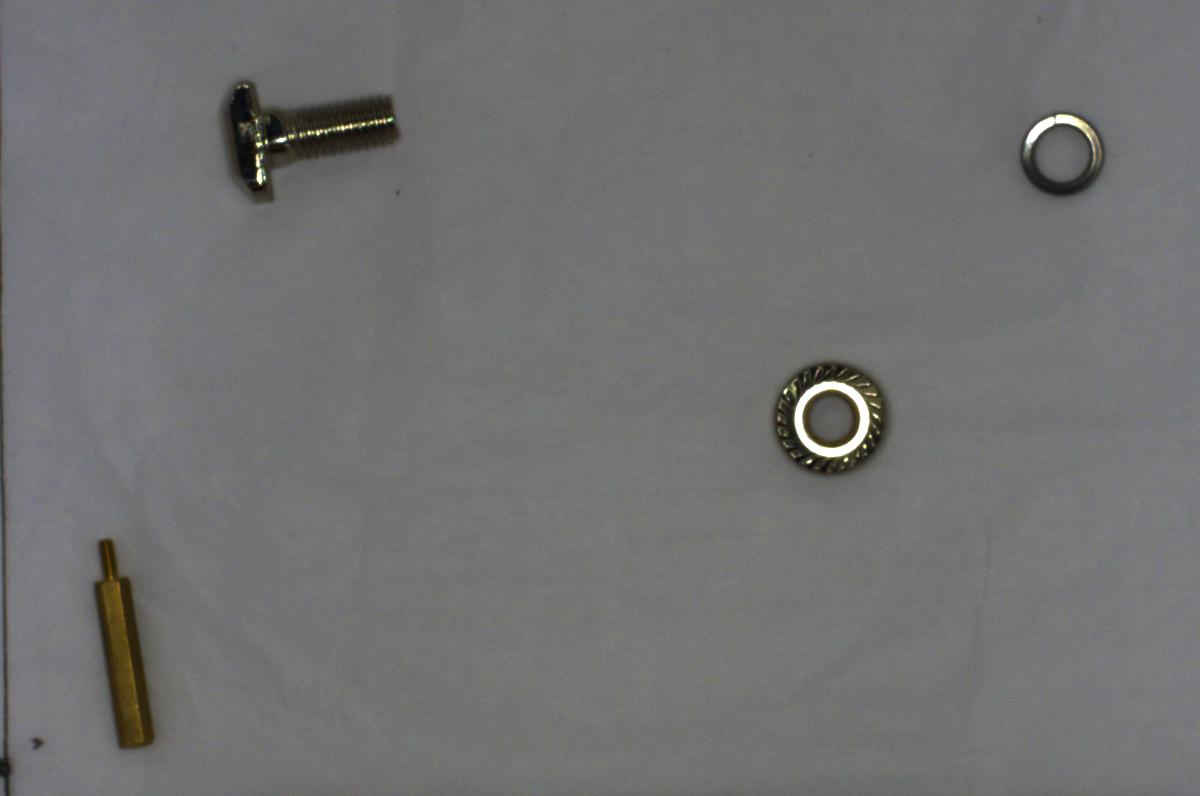Flange nut: (758, 352, 899, 479)
Hexagon pillar: (79, 522, 181, 761)
Spring washer: (999, 96, 1119, 203)
T-shaped screw: (208, 68, 410, 212)
